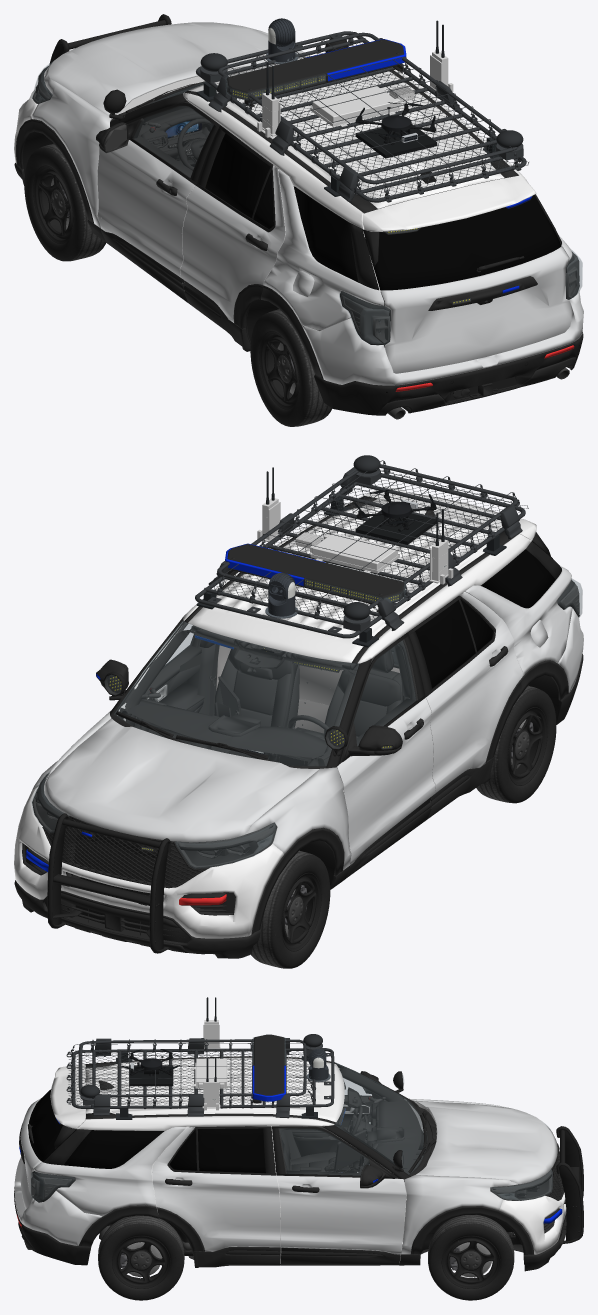
Rendered from vehicle-rack.glb.
3 views of the same model, one above another, from view 1: azimuth 30°, elevation 25°; view 2: azimuth 150°, elevation 25°; view 3: azimuth 270°, elevation 25° (orthographic). The views are drawn at different scales.
Visible parts, largest first — view 1: Vehicle body, Roof_Basket_Racks_plastic.001, Roof_Basket_Racks_metal.001, USGlass.001, WheelRearLeft.001, WheelFrontLeft.001, Rack lightbar, battery-casing.001, Recon EPM docking plate.001; view 2: Vehicle body, USGlass.001, Roof_Basket_Racks_plastic.001, Roof_Basket_Racks_metal.001, WheelFrontLeft.001, WheelRearLeft.001, Rack lightbar, battery-casing.001, Recon EPM docking plate.001; view 3: Vehicle body, USGlass.001, Roof_Basket_Racks_plastic.001, WheelFrontRight.001, WheelRearRight.001, Roof_Basket_Racks_metal.001, Rack lightbar, battery-casing.001, Recon EPM docking plate.001, USMonitor.001.
Boxes of the visible parts, left/top/right/bottom form: Vehicle body: left=14, top=14, right=583, bottom=419; Roof_Basket_Racks_plastic.001: left=208, top=32, right=528, bottom=202; Roof_Basket_Racks_metal.001: left=196, top=31, right=526, bottom=202; USGlass.001: left=31, top=59, right=582, bottom=344; WheelRearLeft.001: left=250, top=309, right=331, bottom=426; WheelFrontLeft.001: left=24, top=143, right=105, bottom=261; Rack lightbar: left=226, top=39, right=406, bottom=107; battery-casing.001: left=312, top=86, right=397, bottom=123; Recon EPM docking plate.001: left=355, top=124, right=437, bottom=158; Vehicle body: left=14, top=487, right=583, bottom=958; USGlass.001: left=31, top=563, right=582, bottom=868; Roof_Basket_Racks_plastic.001: left=208, top=460, right=528, bottom=630; Roof_Basket_Racks_metal.001: left=195, top=464, right=525, bottom=638; WheelFrontLeft.001: left=251, top=850, right=330, bottom=968; WheelRearLeft.001: left=476, top=685, right=556, bottom=803; Rack lightbar: left=225, top=543, right=405, bottom=612; battery-casing.001: left=312, top=533, right=397, bottom=570; Recon EPM docking plate.001: left=355, top=510, right=436, bottom=544; Vehicle body: left=14, top=1056, right=583, bottom=1271; USGlass.001: left=31, top=1037, right=552, bottom=1202; Roof_Basket_Racks_plastic.001: left=66, top=1038, right=315, bottom=1118; WheelFrontRight.001: left=428, top=1214, right=514, bottom=1300; WheelRearRight.001: left=98, top=1215, right=184, bottom=1300; Roof_Basket_Racks_metal.001: left=71, top=1039, right=334, bottom=1109; Rack lightbar: left=252, top=1034, right=286, bottom=1103; battery-casing.001: left=196, top=1058, right=226, bottom=1086; Recon EPM docking plate.001: left=129, top=1065, right=173, bottom=1086; USMonitor.001: left=334, top=1129, right=366, bottom=1171.
Size of the model in its own units: 2.3 by 2.32 by 5.21.
36 materials, 2 textured.
